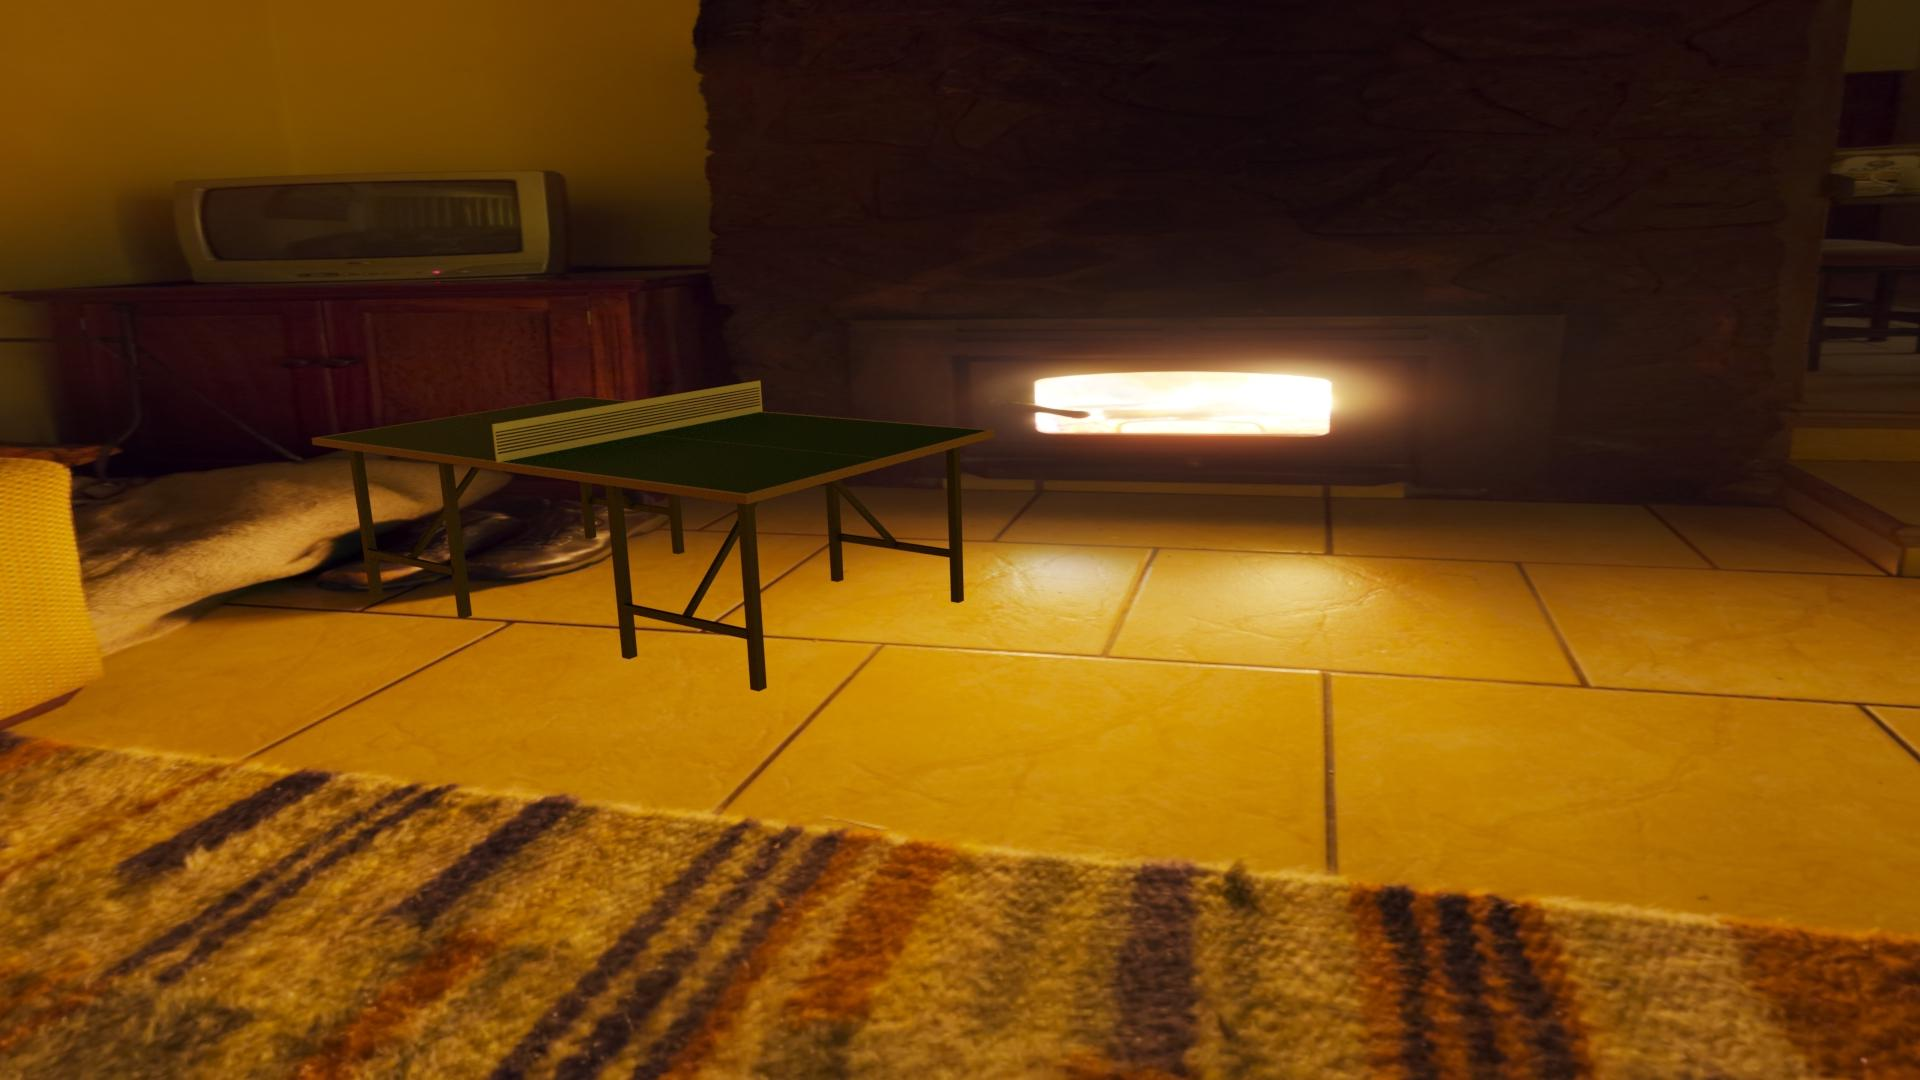table: (318, 397, 988, 493)
